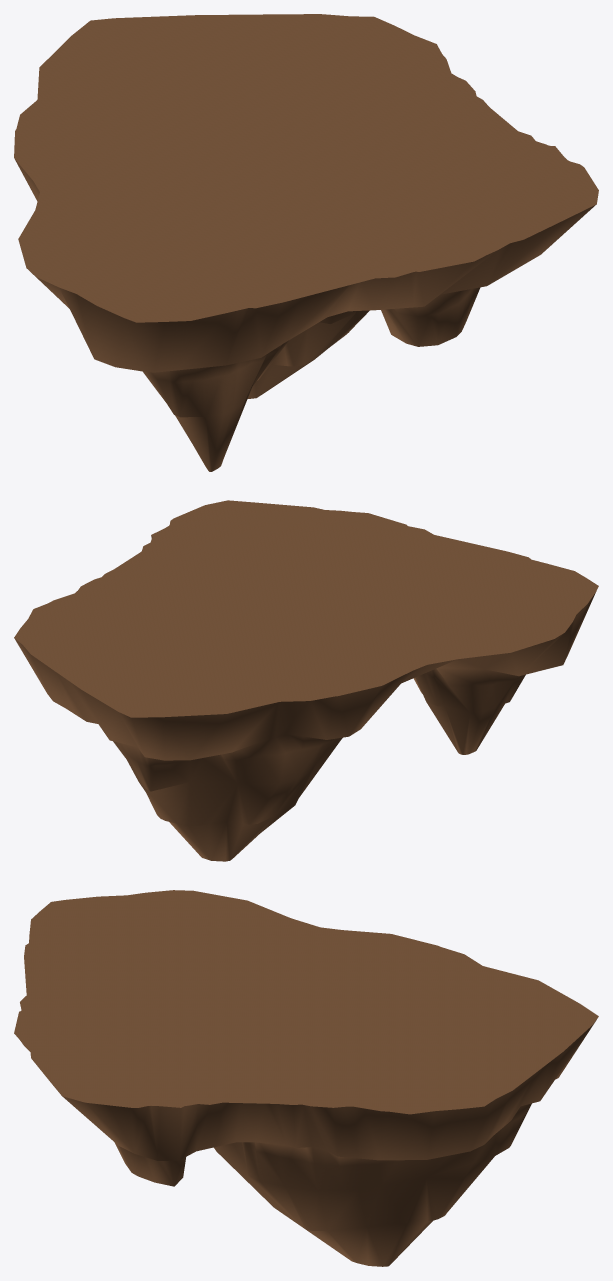
The picture shows the model from 3 angles, top to bottom: view 1: azimuth 30°, elevation 25°; view 2: azimuth 150°, elevation 25°; view 3: azimuth 270°, elevation 25°; orthographic projection. The views are drawn at different scales.
Parts seen in each view (by area): view 1: Mesh2 Group1 Model, Mesh1 island_terrain__3_1 Group1 Model; view 2: Mesh2 Group1 Model, Mesh1 island_terrain__3_1 Group1 Model; view 3: Mesh2 Group1 Model, Mesh1 island_terrain__3_1 Group1 Model.
Boxes of the visible parts, <box> form: Mesh2 Group1 Model: <box>14,14,598,322</box>; Mesh1 island_terrain__3_1 Group1 Model: <box>15,14,596,471</box>; Mesh2 Group1 Model: <box>14,500,598,717</box>; Mesh1 island_terrain__3_1 Group1 Model: <box>14,502,595,861</box>; Mesh2 Group1 Model: <box>14,890,598,1114</box>; Mesh1 island_terrain__3_1 Group1 Model: <box>29,925,596,1266</box>.
Size of the model in its own units: 249 by 122 by 275.
